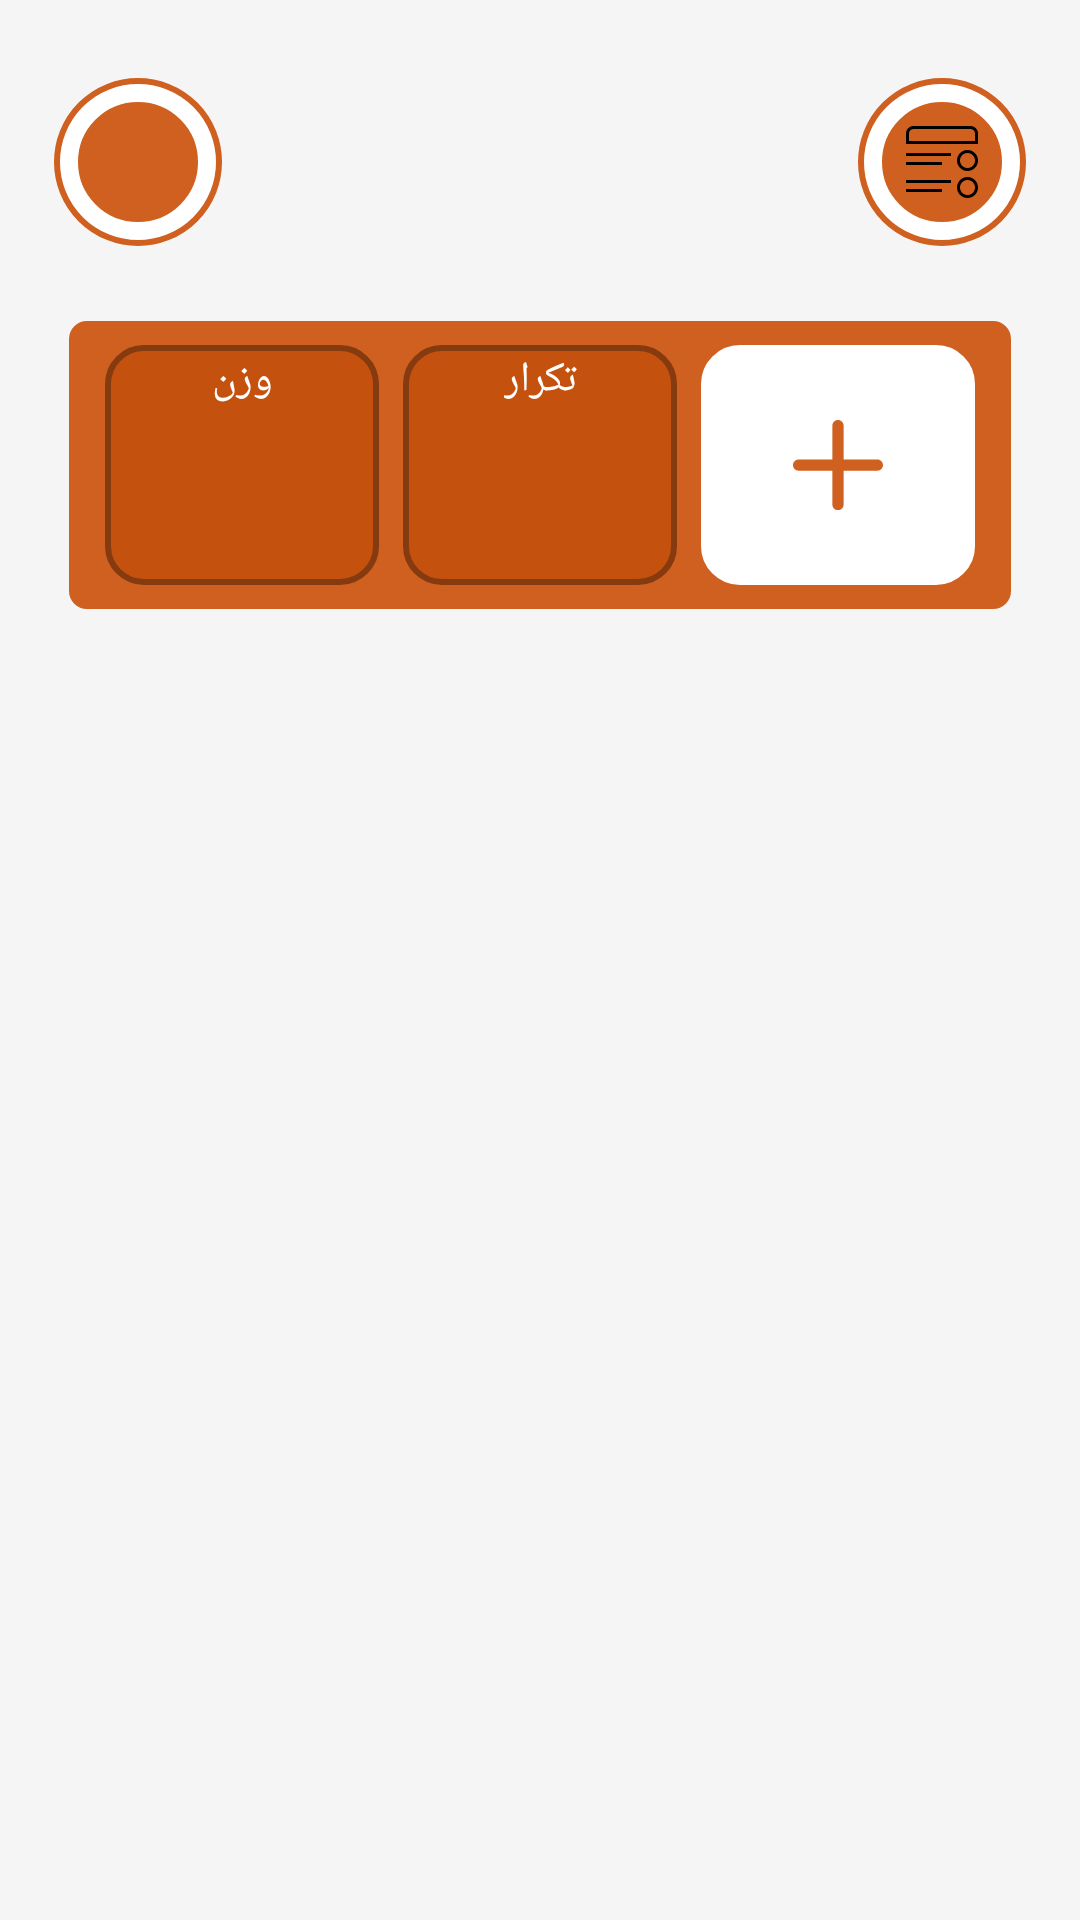

Point at icon controls on the screen. Image size 1080w x 1920h, points as [x,y].
Add: [838,465]
